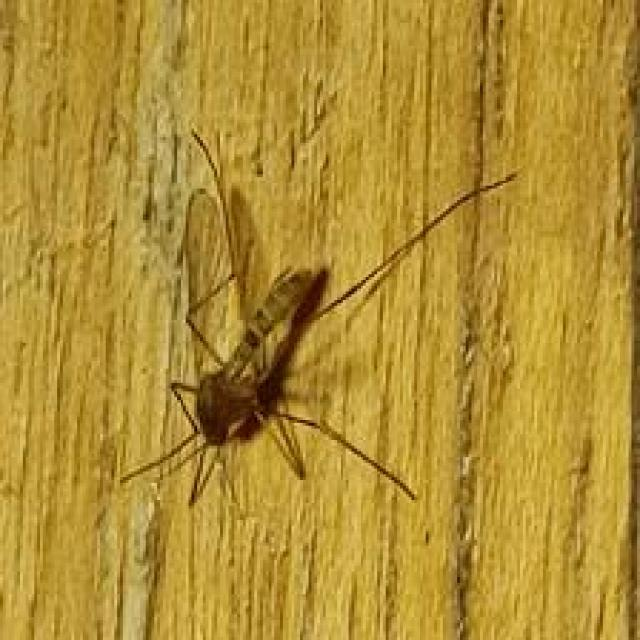Culex: (117, 126, 520, 511)
